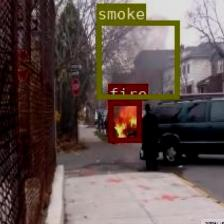fire: (108, 100, 140, 142)
smoke: (96, 20, 179, 98)
